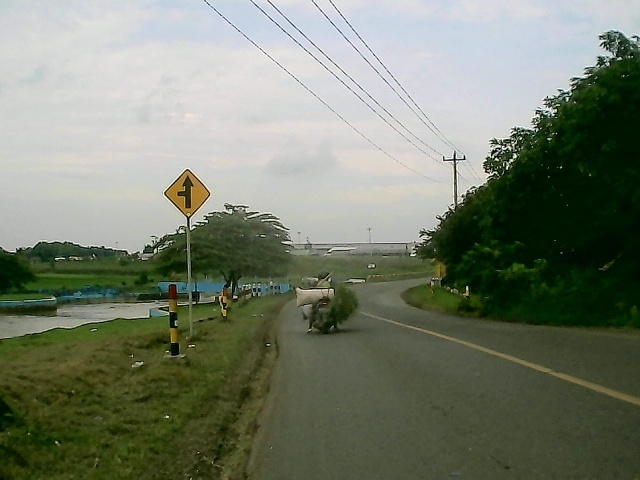Simpang kiri dengan prioritas: (160, 167, 211, 220)
